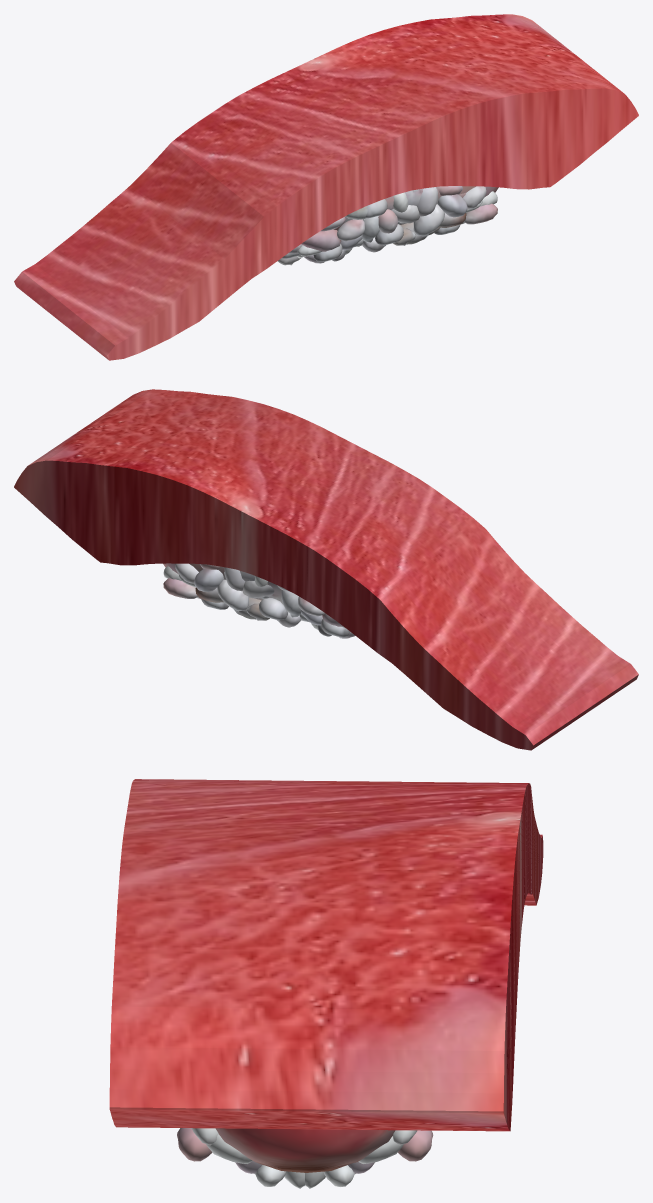
The model's file is sushi-maguro.obj.
3 views of the same model, one above another, from view 1: azimuth 30°, elevation 25°; view 2: azimuth 150°, elevation 25°; view 3: azimuth 270°, elevation 25° (orthographic). The views are drawn at different scales.
Parts seen in each view (by area): view 1: model_190251834805.001; view 2: model_190251834805.001; view 3: model_190251834805.001.
Part boxes in pixels (bbox=[...]): model_190251834805.001: bbox=[14, 14, 638, 360]; model_190251834805.001: bbox=[14, 389, 638, 750]; model_190251834805.001: bbox=[109, 779, 543, 1188].
Size of the model in its own units: 1.23 by 0.392 by 0.4363.
